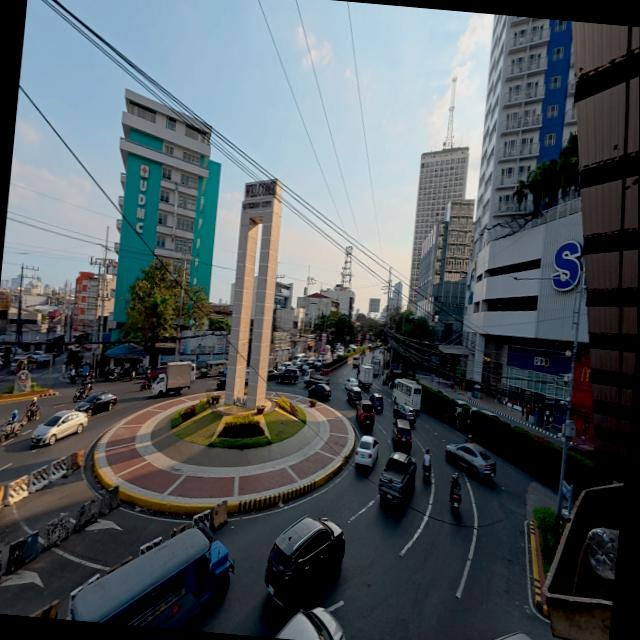car: (259, 512, 346, 618), (30, 406, 89, 451), (442, 440, 500, 482), (77, 389, 120, 418), (352, 433, 380, 468), (270, 361, 302, 385), (307, 376, 335, 398)
trucks: (374, 449, 421, 506)
